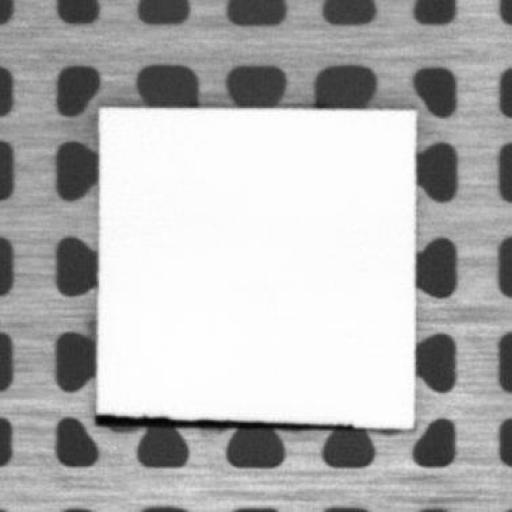DIE_BROKEN: (91, 410, 355, 430)
